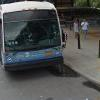Bus: (2, 3, 66, 76)
